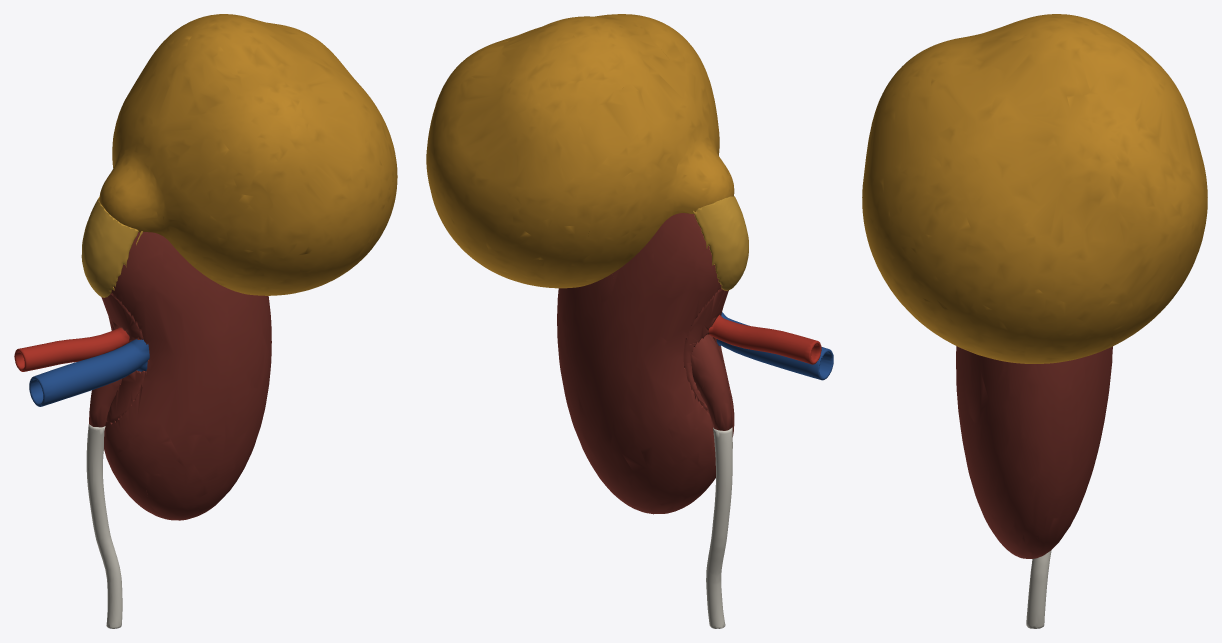
Rendered from kidney_t4.glb.
3 views of the same model, side by side, from view 1: azimuth 30°, elevation 25°; view 2: azimuth 150°, elevation 25°; view 3: azimuth 270°, elevation 25° (orthographic). The views are drawn at different scales.
Visible parts, largest first — view 1: tumor, kidney_body, renal_vein, adrenal_gland, ureter, renal_artery; view 2: tumor, kidney_body, adrenal_gland, ureter, renal_artery, renal_vein; view 3: tumor, kidney_body, ureter.
Part boxes in pixels (x1,y1,x2,y2): tumor: (99, 14, 397, 295); kidney_body: (89, 232, 271, 520); renal_vein: (29, 339, 149, 406); adrenal_gland: (81, 197, 142, 297); ureter: (86, 424, 122, 628); renal_artery: (14, 327, 130, 371); tumor: (426, 14, 734, 288); kidney_body: (557, 213, 734, 514); adrenal_gland: (692, 196, 748, 290); ureter: (706, 427, 732, 628); renal_artery: (707, 315, 821, 364); renal_vein: (716, 312, 833, 380); tumor: (862, 14, 1207, 363); kidney_body: (956, 346, 1112, 558); ureter: (1026, 550, 1051, 628).
Size of the model in its own units: 11.41 by 17.2 by 8.
